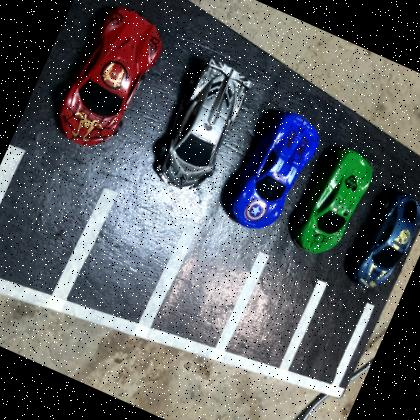Car: (46, 0, 172, 161), (147, 54, 257, 200), (226, 104, 328, 241), (290, 142, 381, 265), (349, 186, 420, 299)
